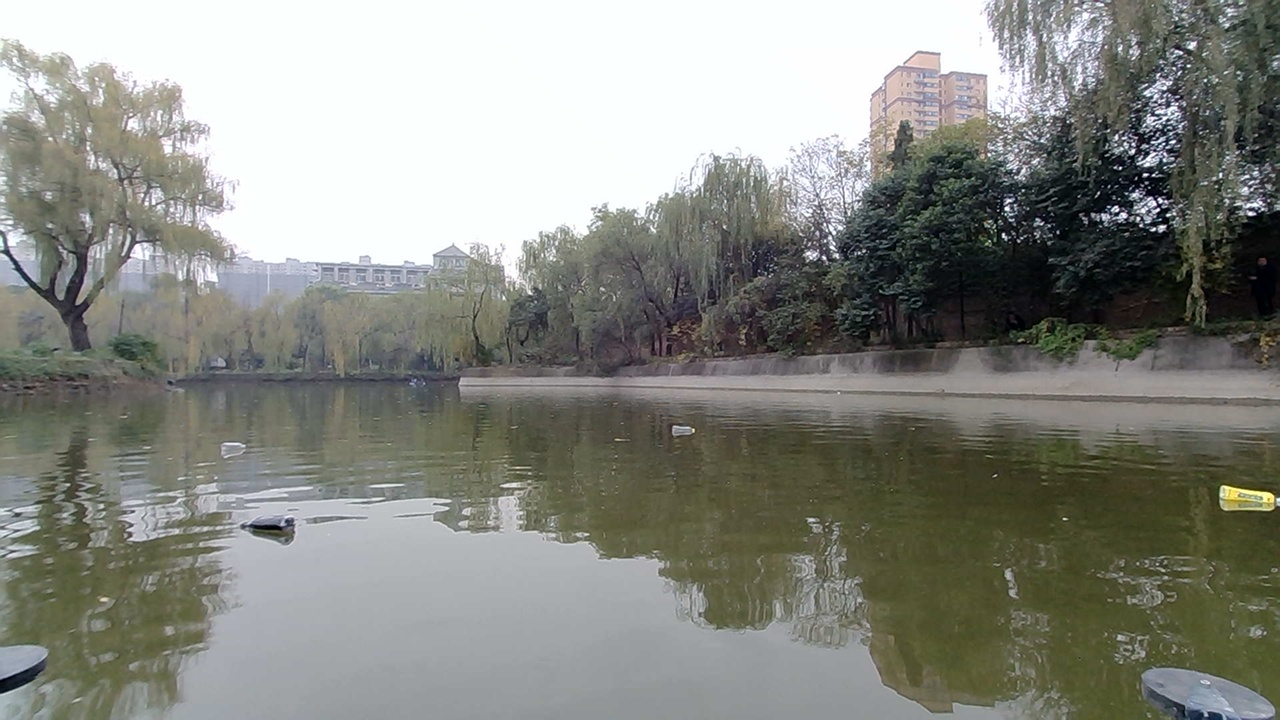bottle: (178, 426, 280, 471), (231, 498, 322, 546), (1211, 480, 1279, 521), (658, 404, 710, 441)
